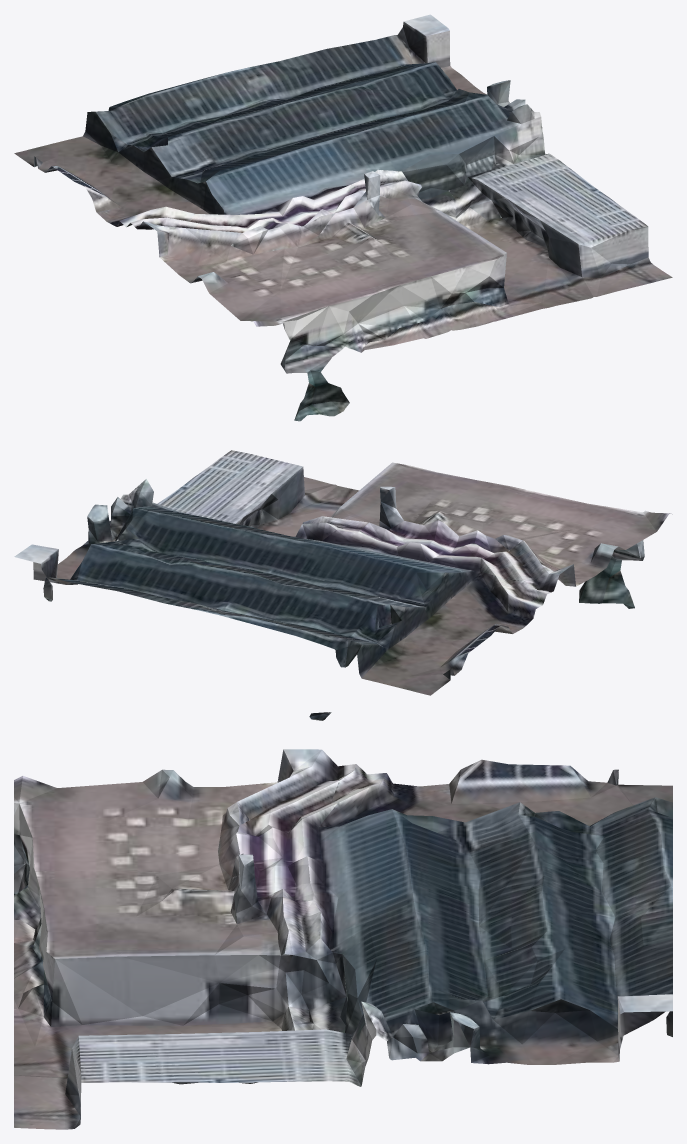
Rendered from helsinki-0-6.glb.
3 views of the same model, one above another, from view 1: azimuth 30°, elevation 25°; view 2: azimuth 150°, elevation 25°; view 3: azimuth 270°, elevation 25° (orthographic). The views are drawn at different scales.
Size of the model in its own units: 31.5 by 10.82 by 31.75.
1 material, 1 textured.
